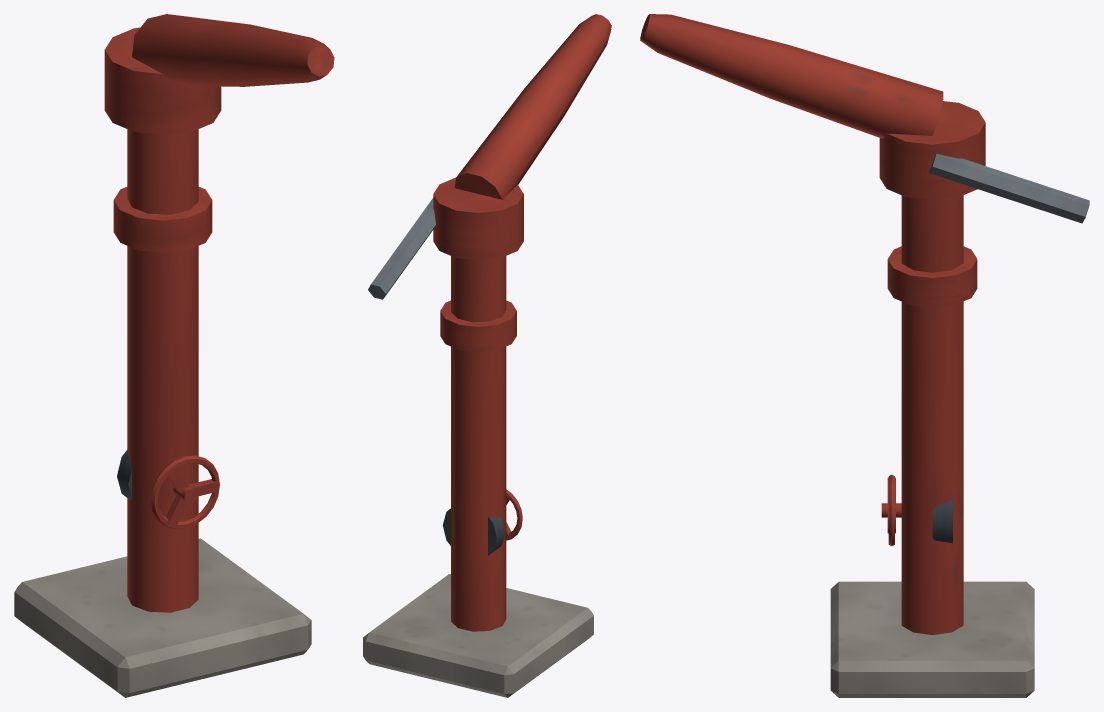
File: fire_monitor_lc.obj
The picture shows the model from 3 angles, left to right: view 1: azimuth 30°, elevation 25°; view 2: azimuth 150°, elevation 25°; view 3: azimuth 270°, elevation 25°; orthographic projection. The views are drawn at different scales.
Visible parts, largest first — view 1: fire_monitor_lc; view 2: fire_monitor_lc; view 3: fire_monitor_lc.
Boxes of the visible parts, x1,y1,x2,y2 form: fire_monitor_lc: (14,14,334,697); fire_monitor_lc: (363,14,611,697); fire_monitor_lc: (640,14,1089,697).
Size of the model in its own units: 0.5 by 1.74 by 1.1.
Materials: 1 (1 with a texture image).
